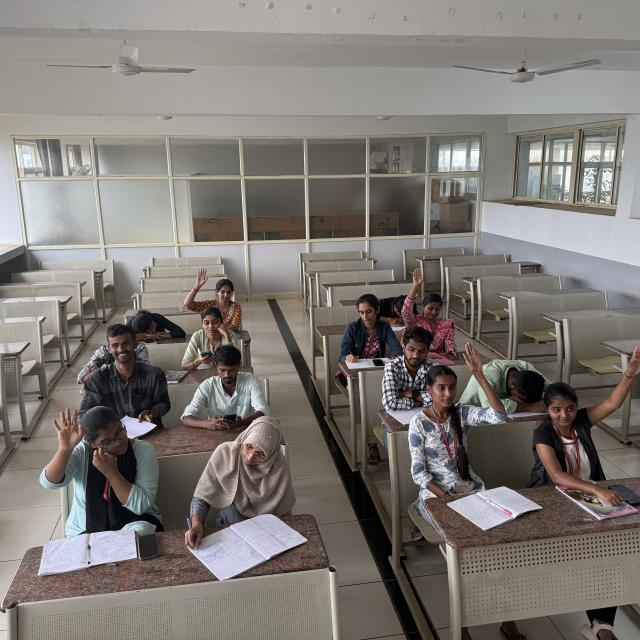Hand Rising: (49, 406, 153, 508), (419, 344, 499, 462), (403, 267, 457, 334), (186, 264, 239, 320)
Sleeping: (483, 356, 553, 420), (122, 306, 183, 346), (375, 288, 420, 328)
Using Phone: (181, 341, 271, 438), (186, 306, 237, 367)
Writing: (176, 422, 309, 555), (338, 294, 390, 362)
